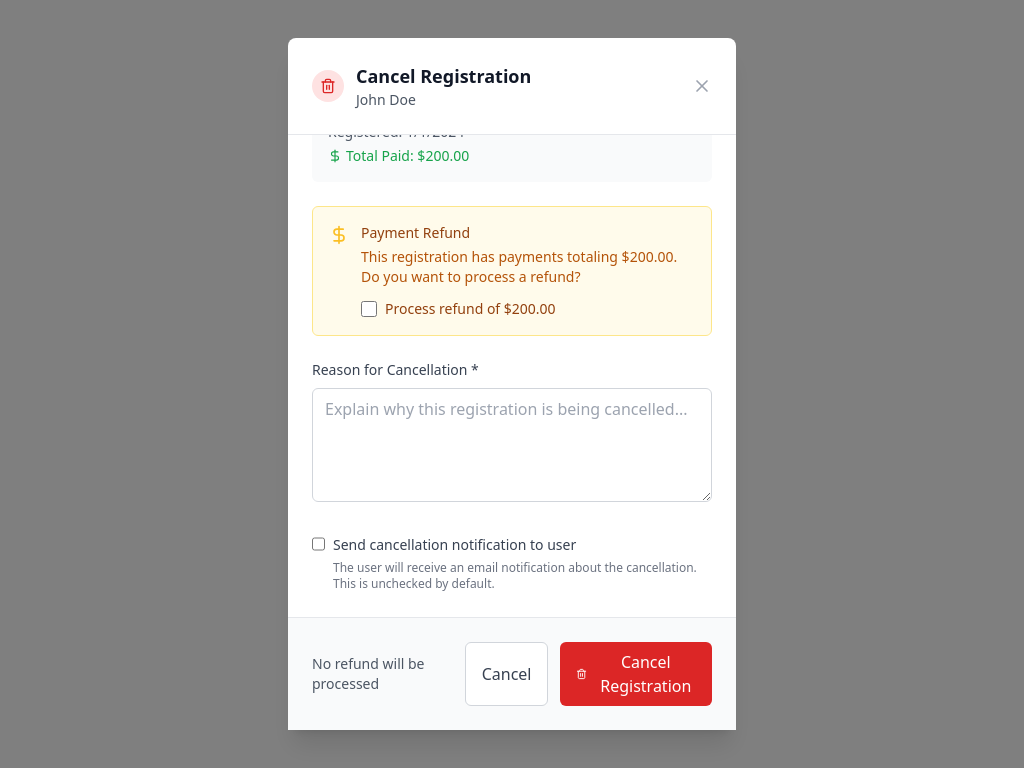
Test: RegistrationCancelForm › Form Validation › should enforce minimum reason length
(page scrolled)
Step 1. Type "Too short" into the text box labelled "Reason for Cancellation *" → (512, 445), box [312,388,712,502]
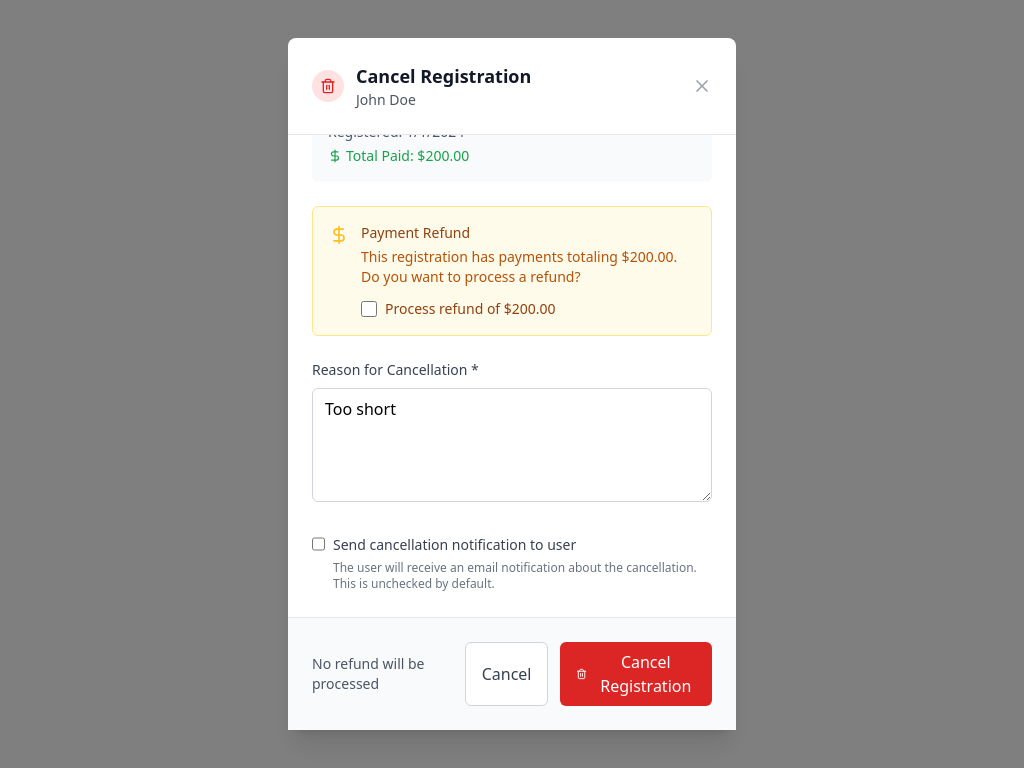
Step 2. Click the button "Cancel Registration" → (636, 674), box [560,642,712,706]
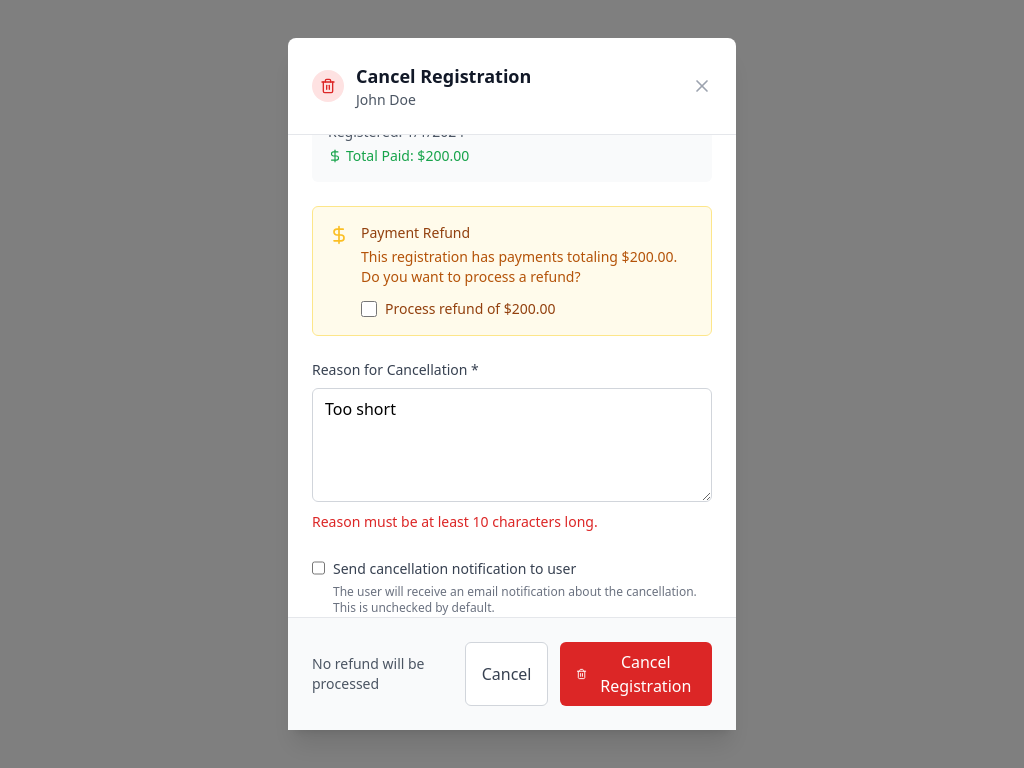
Expected: the text "Reason must be at least 10 characters long." is shown, [312,512,598,531]
